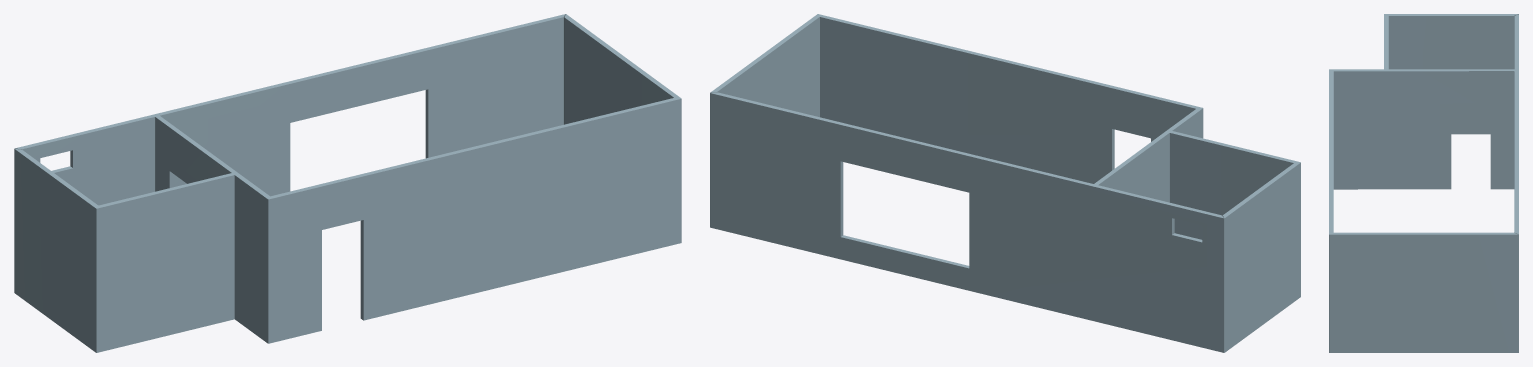
File: S_Wall_a 2.fbx
3 renders of one model, left to right at view 1: azimuth 30°, elevation 25°; view 2: azimuth 150°, elevation 25°; view 3: azimuth 270°, elevation 25°, orthographic. The views are drawn at different scales.
Parts seen in each view (by area): view 1: Walls; view 2: Walls; view 3: Walls.
Part boxes in pixels (x1,y1,x2,y2): Walls: [14, 14, 681, 352]; Walls: [710, 14, 1300, 352]; Walls: [1329, 14, 1518, 352].
Bounding box in the file's own units: 1200 × 300 × 436.
